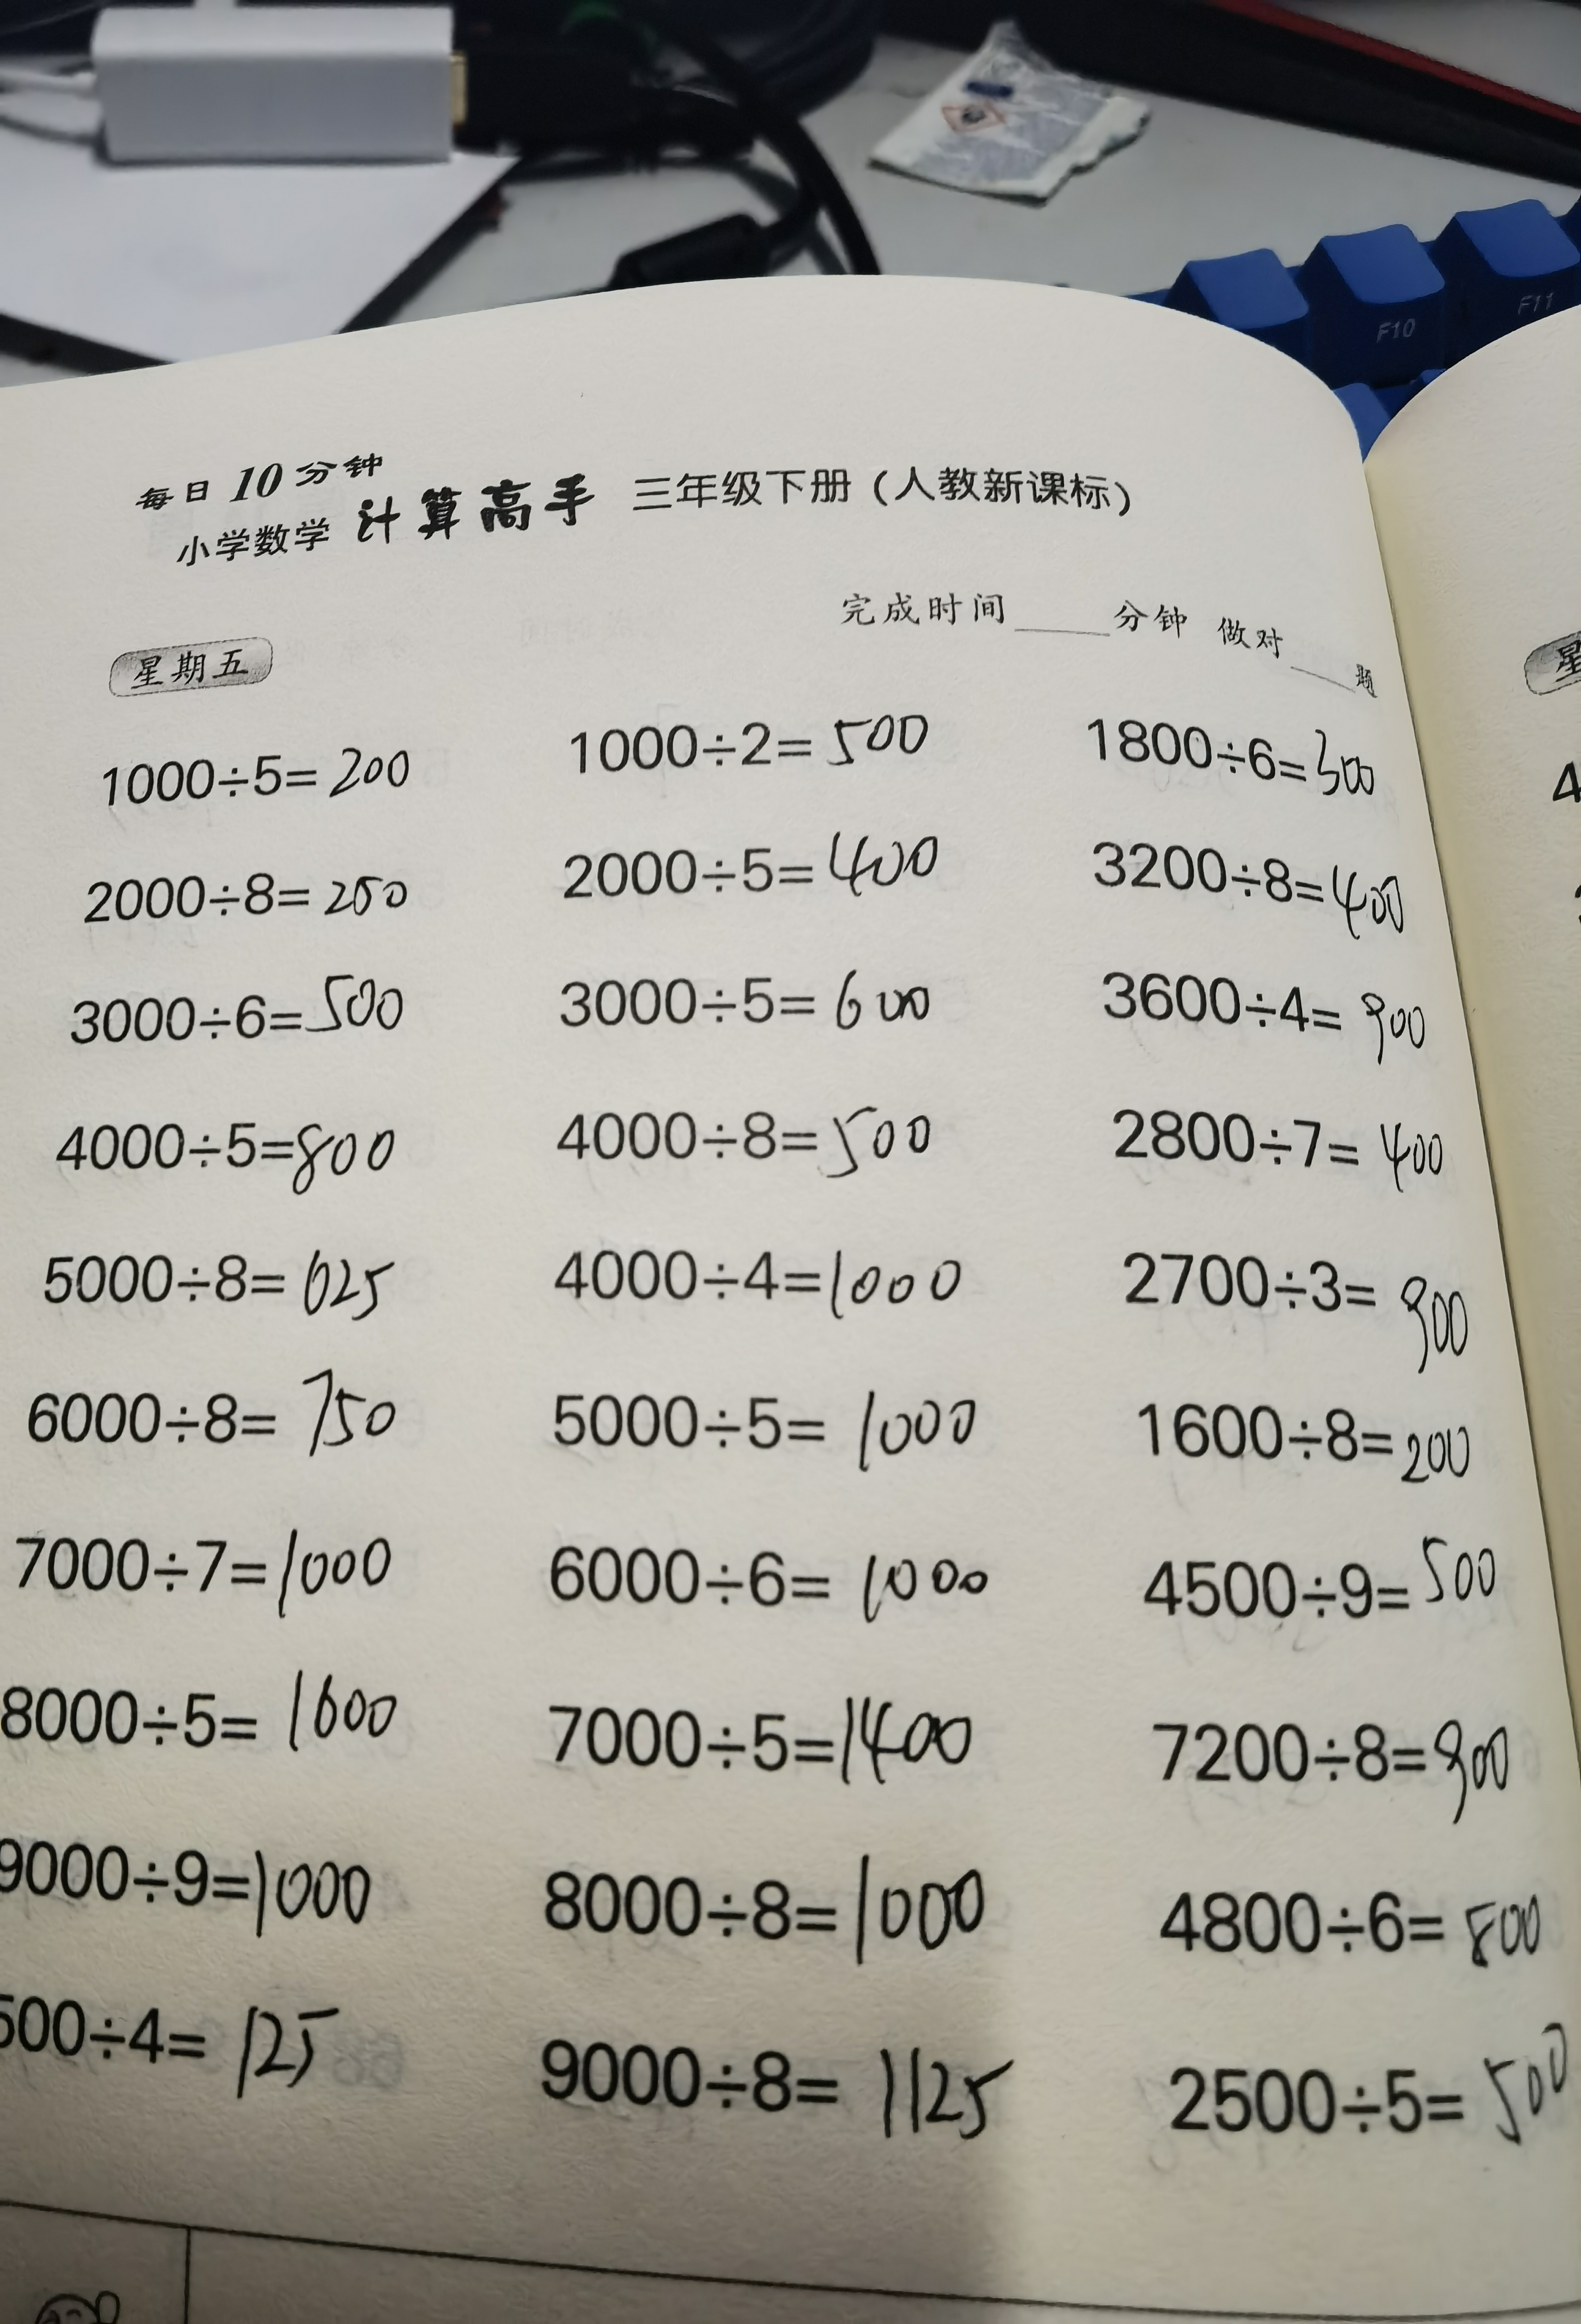equation: (528, 2003, 1041, 2170), (1112, 2012, 1581, 2178), (531, 1830, 1027, 1982), (5, 1953, 418, 2121), (510, 1200, 983, 1345), (2, 1796, 427, 1955), (519, 1507, 999, 1646), (517, 1068, 983, 1202), (1103, 1205, 1475, 1373), (1133, 1683, 1555, 1826), (4, 1657, 431, 1795), (1122, 1371, 1532, 1512), (1069, 815, 1445, 965), (519, 932, 974, 1053), (528, 1676, 1020, 1788), (1085, 1066, 1459, 1198), (1117, 1533, 1556, 1643), (1135, 1878, 1560, 1990), (25, 1223, 452, 1334), (1059, 683, 1412, 817), (510, 1353, 1023, 1443), (16, 1361, 448, 1465), (21, 1493, 434, 1601), (46, 963, 450, 1062), (1083, 962, 1442, 1073), (39, 1098, 455, 1191), (524, 697, 946, 789), (524, 826, 948, 907), (56, 729, 464, 810), (55, 854, 462, 933)
